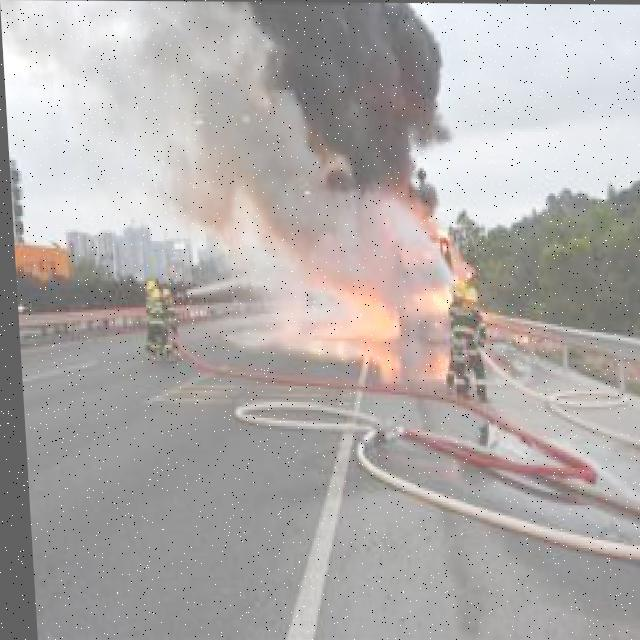Fire: (312, 202, 448, 357)
